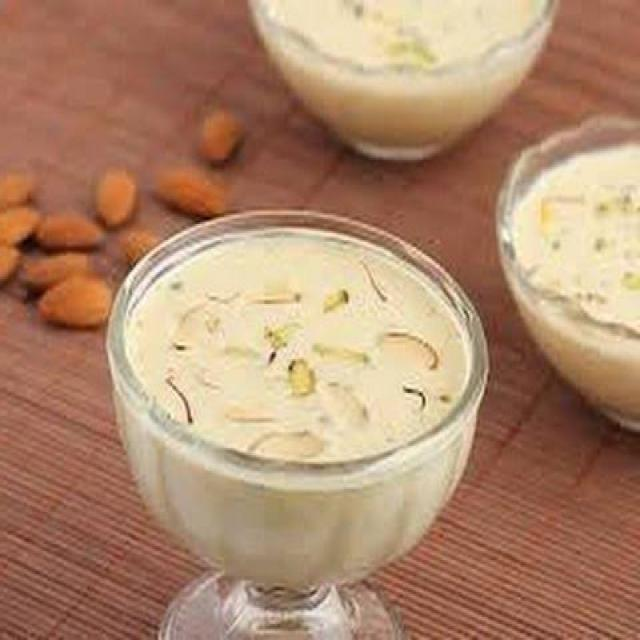Kheer: (117, 218, 465, 511), (501, 108, 640, 410), (236, 3, 568, 122)
